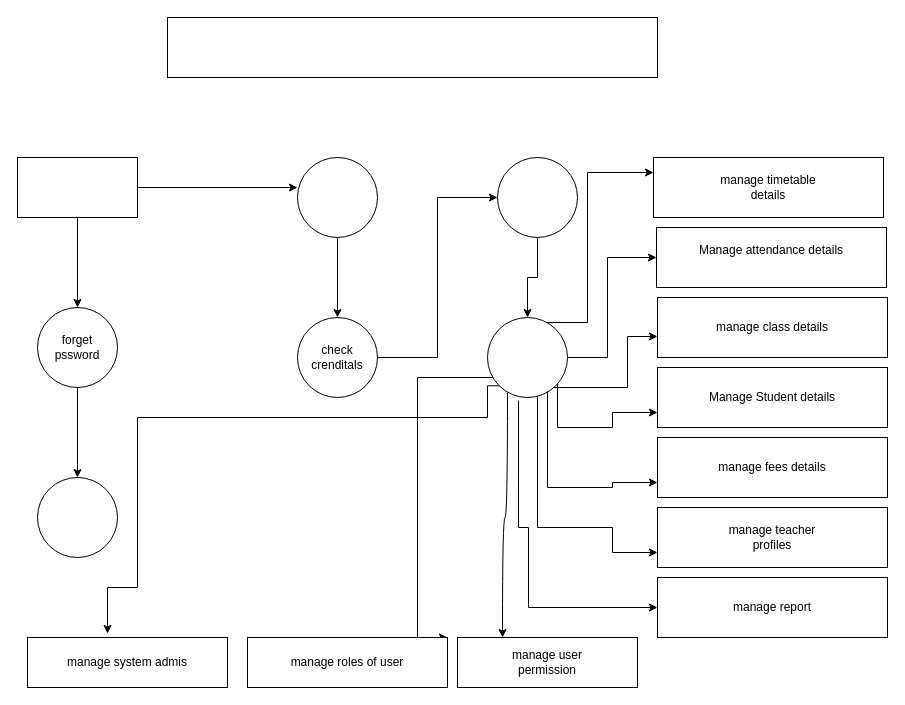
This 905x705 diagram has some shape labels left out. Here are the shapes that lost their labels. From the top down, the centre of each, then its label:
(412,47): student information system
(77,187): admin
(337,197): login to system
(537,197): check roles of access
(527,357): manage modules
(77,517): send email to user
